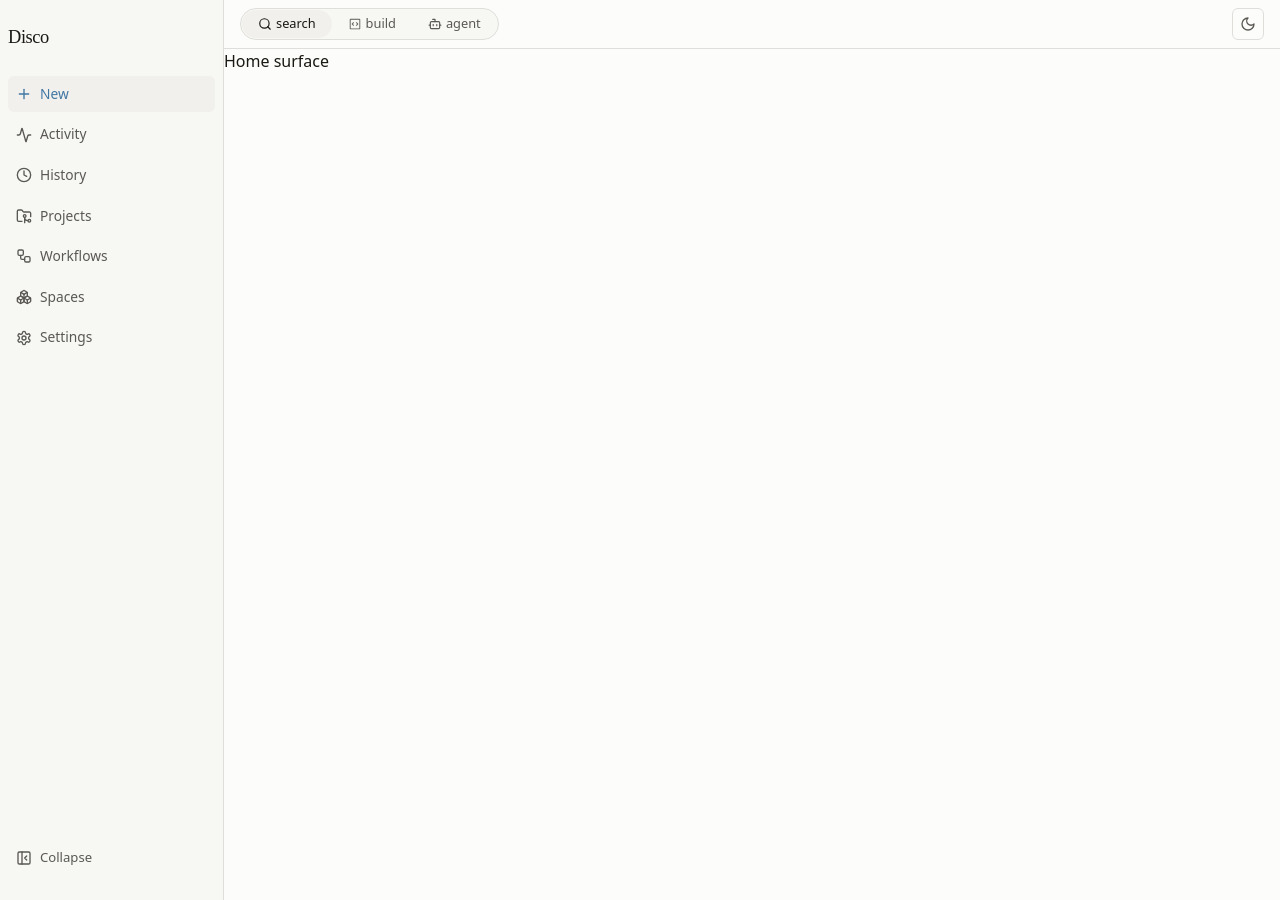
Test: Application shell › routes between views via the rail
The width and height of the screenshot is (1280, 900).
Expected: the text "Home surface" is shown, left=224, top=50, right=329, bottom=72
Click the link "History". click: (51, 174)
box: left=16, top=165, right=86, bottom=184
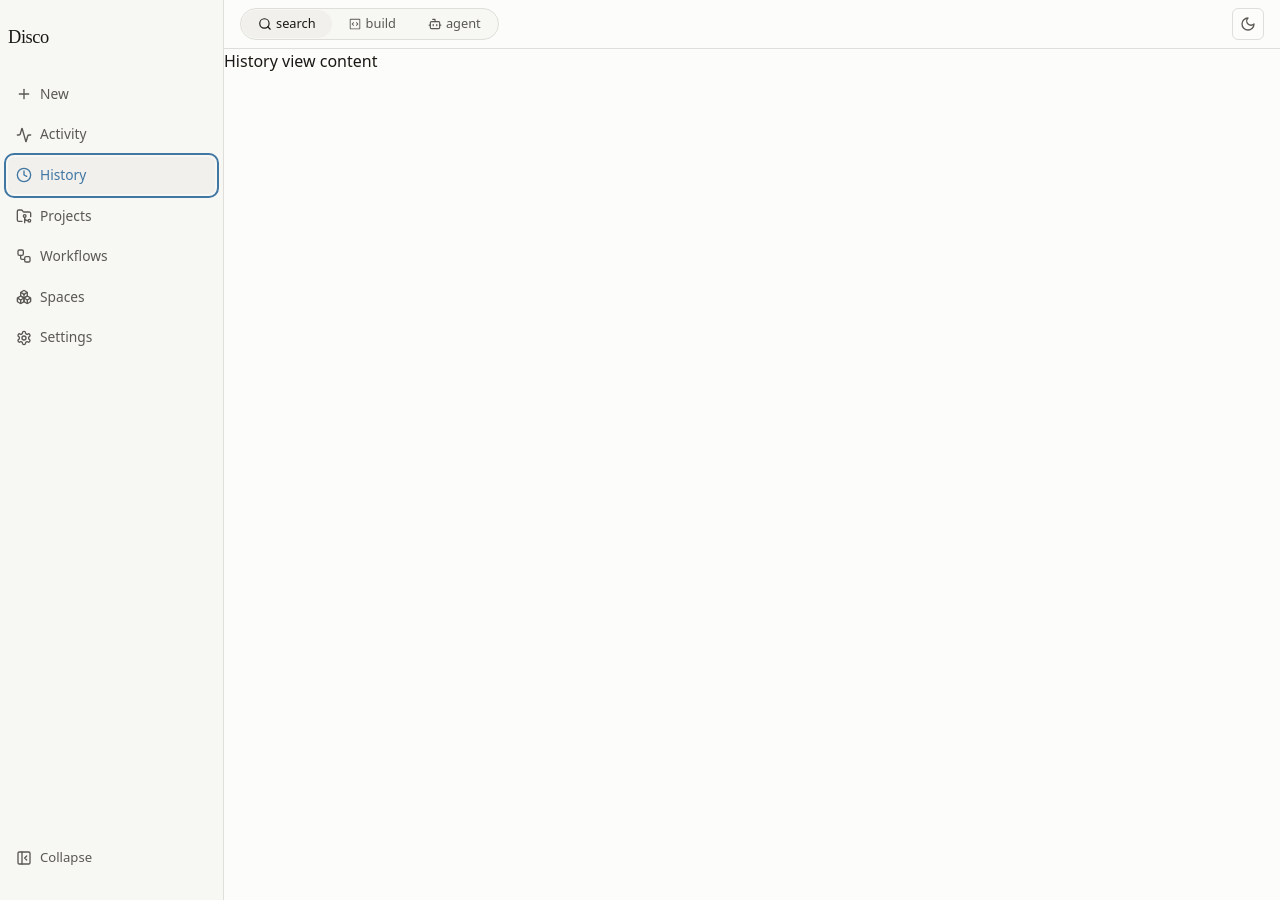
Expected: the text "History view content" is shown, left=224, top=50, right=378, bottom=72
Click the link "Settings". click: (54, 337)
box: left=16, top=328, right=92, bottom=346
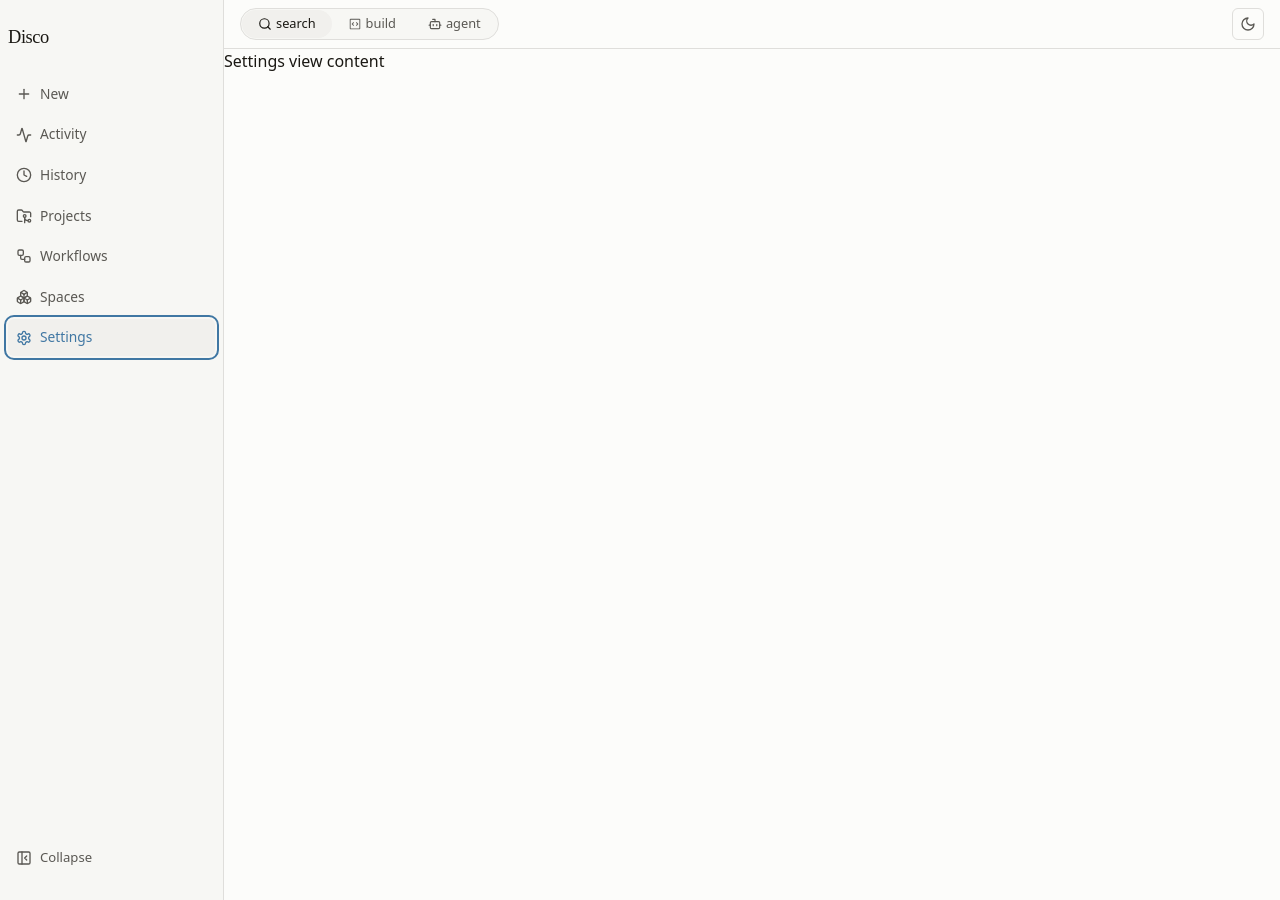
Expected: the text "Settings view content" is shown, left=224, top=50, right=384, bottom=72
